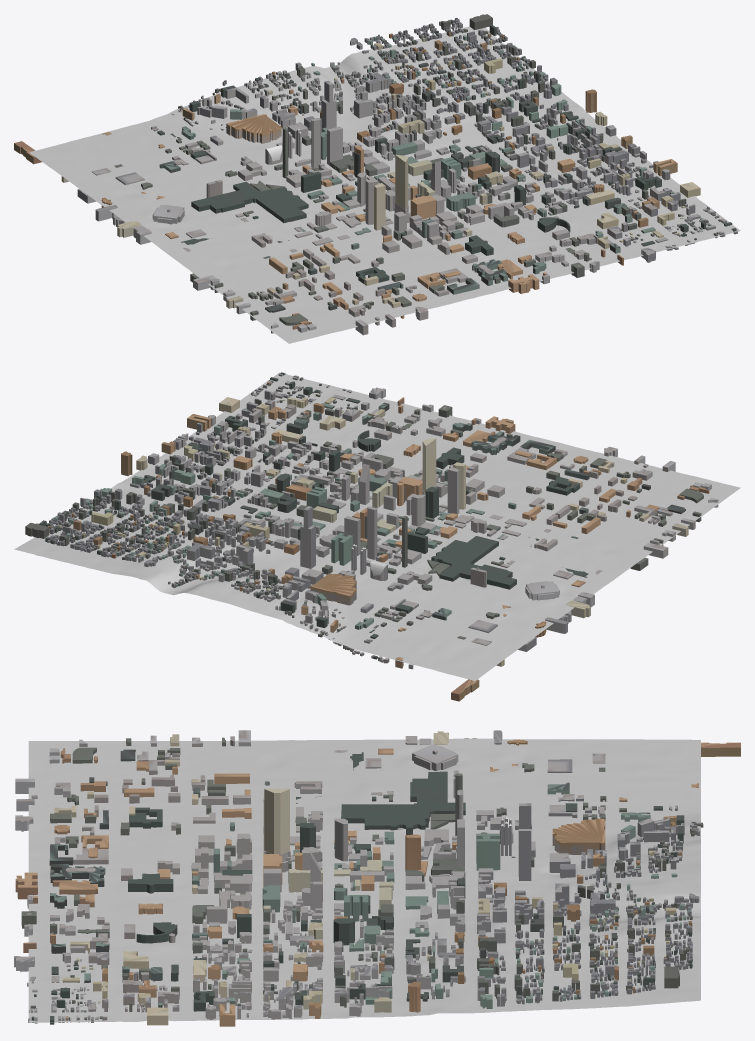
The model's file is MapTest.fbx.
3 views of the same model, one above another, from view 1: azimuth 30°, elevation 25°; view 2: azimuth 150°, elevation 25°; view 3: azimuth 270°, elevation 25° (orthographic). The views are drawn at different scales.
Parts seen in each view (by area): view 1: map_2.osm_buildings, Terrain; view 2: map_2.osm_buildings, Terrain; view 3: Terrain, map_2.osm_buildings.
Boxes of the visible parts, x1,y1,x2,y2 form: map_2.osm_buildings: (14, 14, 737, 335); Terrain: (29, 26, 740, 343); map_2.osm_buildings: (25, 372, 718, 701); Terrain: (14, 372, 740, 680); Terrain: (28, 738, 700, 1022); map_2.osm_buildings: (14, 730, 740, 1026).
Size of the model in its own units: 240704 by 44727 by 247335.
